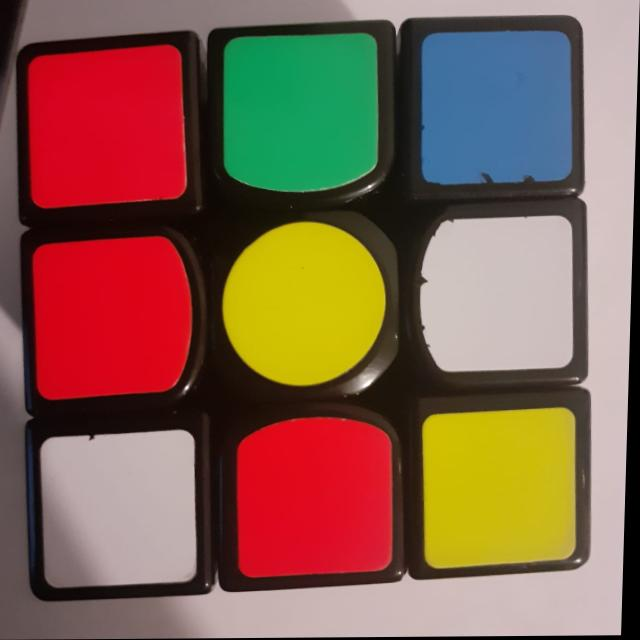Blue: (412, 23, 587, 195)
Green: (209, 28, 395, 194)
Red: (228, 419, 413, 592), (11, 40, 197, 211), (21, 237, 202, 404)
White: (29, 428, 215, 593), (415, 212, 587, 383)
Yellow: (214, 224, 404, 400), (417, 410, 594, 571)
